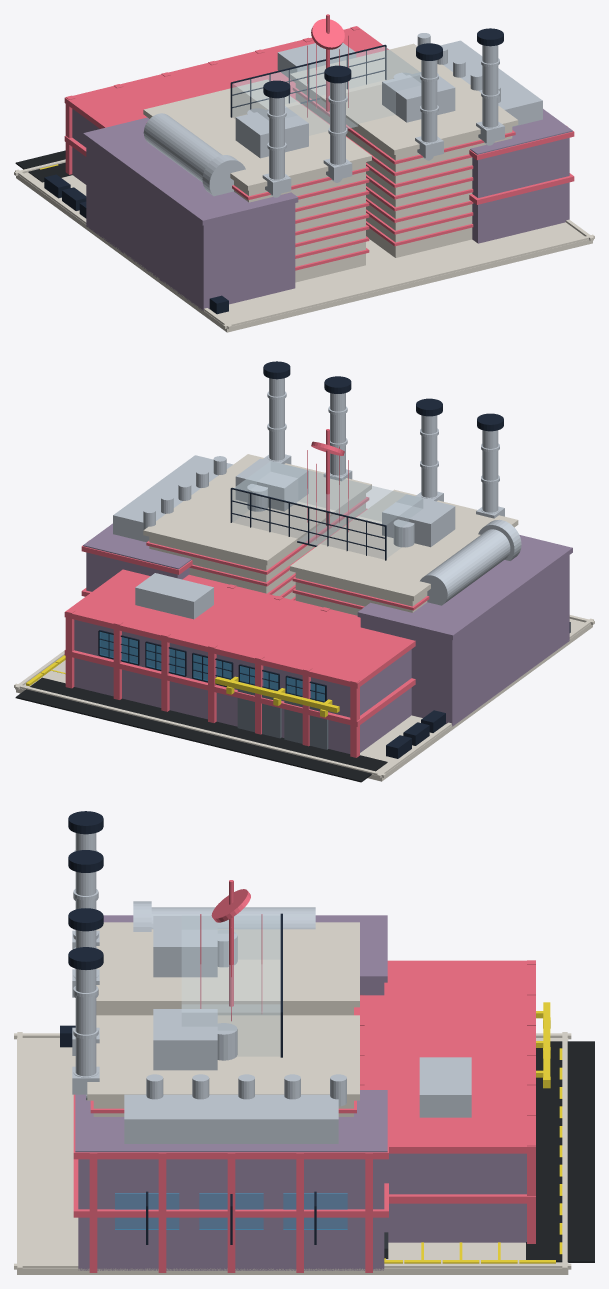
File: hq_02_powertrain_l3.glb
3 renders of one model, top to bottom at view 1: azimuth 30°, elevation 25°; view 2: azimuth 150°, elevation 25°; view 3: azimuth 270°, elevation 25°, orthographic. The views are drawn at different scales.
Parts seen in each view (by area): view 1: GEO_Dyno_Bunkers_Concrete, GEO_West_Turbo_Wing, GEO_Plinth_Foundation, GEO_East_Transmission_Wing, GEO_Workshop_Structural_Beams, GEO_ECU_Calibration_Observation_Room, GEO_Exhaust_Stacks_Pipes, GEO_Dyno_Acoustic_Ribs, GEO_Rooftop_HVAC_Blowers, GEO_Intercooler_Air_Simulation_Duct, GEO_Transmission_Acoustic_Silencers, GEO_Exhaust_Stack_Caps (+6 smaller); view 2: GEO_Dyno_Bunkers_Concrete, GEO_Workshop_Structural_Beams, GEO_West_Turbo_Wing, GEO_Front_Workshop_Brick, GEO_ECU_Calibration_Observation_Room, GEO_Rooftop_HVAC_Blowers, GEO_Front_Apron_Asphalt, GEO_Exhaust_Stacks_Pipes, GEO_Plinth_Foundation, GEO_Transmission_Acoustic_Silencers, GEO_Intercooler_Air_Simulation_Duct, GEO_East_Transmission_Wing (+10 smaller); view 3: GEO_East_Transmission_Wing, GEO_Dyno_Bunkers_Concrete, GEO_Workshop_Structural_Beams, GEO_Plinth_Foundation, GEO_Rooftop_HVAC_Blowers, GEO_Transmission_Acoustic_Silencers, GEO_ECU_Calibration_Observation_Room, GEO_Front_Workshop_Brick, GEO_Front_Apron_Asphalt, GEO_East_Structural_Beams, GEO_East_Dyno_Windows, GEO_Exhaust_Stacks_Pipes (+6 smaller).
Boxes of the visible parts, <box> form: GEO_Dyno_Bunkers_Concrete: <box>143,43,518,282</box>; GEO_West_Turbo_Wing: <box>83,117,298,311</box>; GEO_Plinth_Foundation: <box>14,159,594,332</box>; GEO_East_Transmission_Wing: <box>470,109,572,243</box>; GEO_Workshop_Structural_Beams: <box>64,26,388,174</box>; GEO_ECU_Calibration_Observation_Room: <box>232,46,421,135</box>; GEO_Exhaust_Stacks_Pipes: <box>262,45,504,197</box>; GEO_Dyno_Acoustic_Ribs: <box>232,86,515,270</box>; GEO_Rooftop_HVAC_Blowers: <box>235,43,455,158</box>; GEO_Intercooler_Air_Simulation_Duct: <box>143,113,245,196</box>; GEO_Transmission_Acoustic_Silencers: <box>417,33,542,126</box>; GEO_Exhaust_Stack_Caps: <box>263,28,503,98</box>; GEO_Dyno_Bunkers_Concrete: <box>143,454,518,615</box>; GEO_Workshop_Structural_Beams: <box>64,569,415,757</box>; GEO_West_Turbo_Wing: <box>357,535,572,726</box>; GEO_Front_Workshop_Brick: <box>74,619,411,753</box>; GEO_ECU_Calibration_Observation_Room: <box>232,461,423,559</box>; GEO_Rooftop_HVAC_Blowers: <box>135,458,455,619</box>; GEO_Front_Apron_Asphalt: <box>15,677,387,782</box>; GEO_Exhaust_Stacks_Pipes: <box>263,378,504,518</box>; GEO_Plinth_Foundation: <box>14,615,594,781</box>; GEO_Transmission_Acoustic_Silencers: <box>113,455,233,542</box>; GEO_Intercooler_Air_Simulation_Duct: <box>420,519,521,605</box>; GEO_East_Transmission_Wing: <box>83,523,191,591</box>; GEO_East_Transmission_Wing: <box>75,1090,387,1270</box>; GEO_Dyno_Bunkers_Concrete: <box>87,922,359,1116</box>; GEO_Workshop_Structural_Beams: <box>357,960,535,1243</box>; GEO_Plinth_Foundation: <box>14,1032,571,1274</box>; GEO_Rooftop_HVAC_Blowers: <box>153,916,471,1117</box>; GEO_Transmission_Acoustic_Silencers: <box>124,1074,346,1143</box>; GEO_ECU_Calibration_Observation_Room: <box>181,915,280,1056</box>; GEO_Front_Workshop_Brick: <box>384,1153,526,1242</box>; GEO_Front_Apron_Asphalt: <box>526,1041,594,1262</box>; GEO_East_Structural_Beams: <box>73,1091,388,1272</box>; GEO_East_Dyno_Windows: <box>115,1193,347,1229</box>; GEO_Exhaust_Stacks_Pipes: <box>72,833,99,1100</box>.
Size of what is drawn, in the model's own units: 38.49 by 20 by 37.95.
